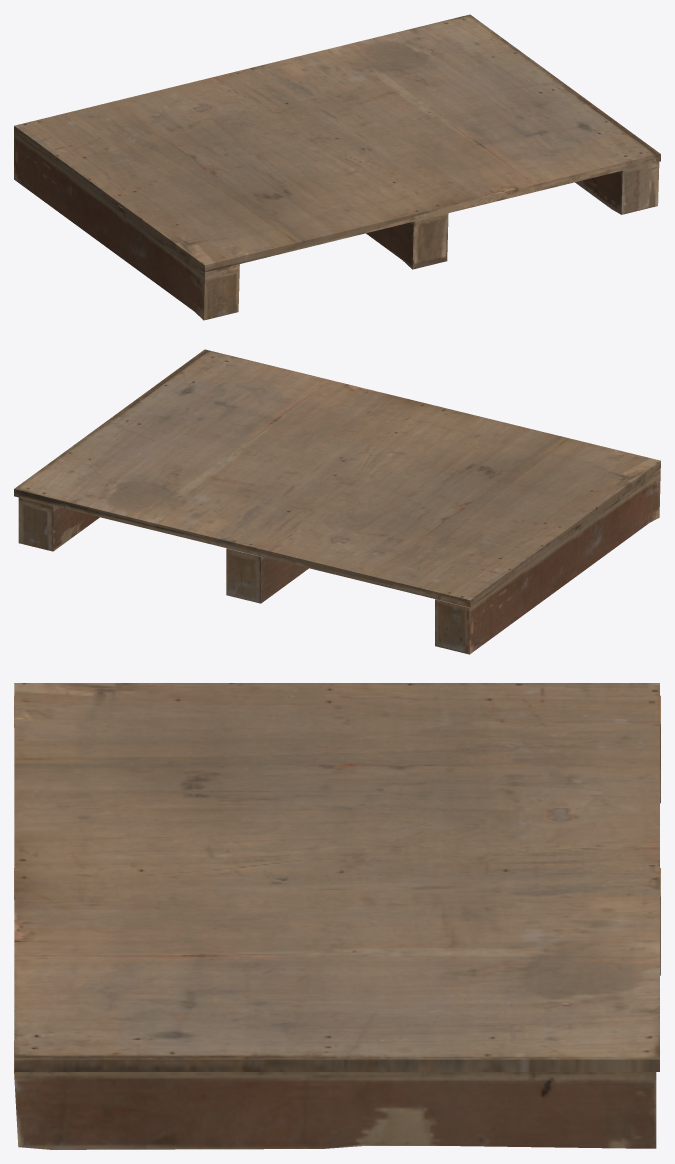
The model's file is OU_AR_Wooden_Pallet_01_D.fbx.
The picture shows the model from 3 angles, top to bottom: view 1: azimuth 30°, elevation 25°; view 2: azimuth 150°, elevation 25°; view 3: azimuth 270°, elevation 25°; orthographic projection. The views are drawn at different scales.
Parts seen in each view (by area): view 1: Pallet001; view 2: Pallet001; view 3: Pallet001.
Boxes of the visible parts, box(x1,y1,x2,y2) form: Pallet001: box(14, 14, 660, 320); Pallet001: box(14, 349, 660, 654); Pallet001: box(14, 683, 660, 1149).
Bounding box in the file's own units: 210 × 24.66 × 152.
Materials: 1 (1 with a texture image).
